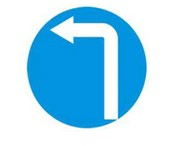Turn_left: (26, 5, 150, 131)
